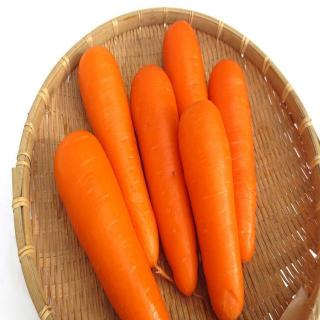carrot: (55, 130, 171, 320), (79, 42, 163, 270), (128, 62, 196, 294), (174, 99, 243, 320), (208, 57, 257, 269)
